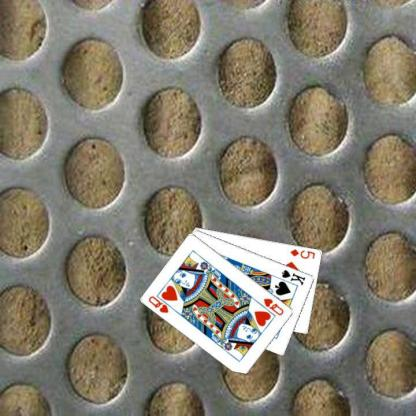5D: (288, 246, 316, 260)
KS: (279, 267, 307, 287)
QH: (146, 292, 176, 314), (261, 296, 286, 316)
